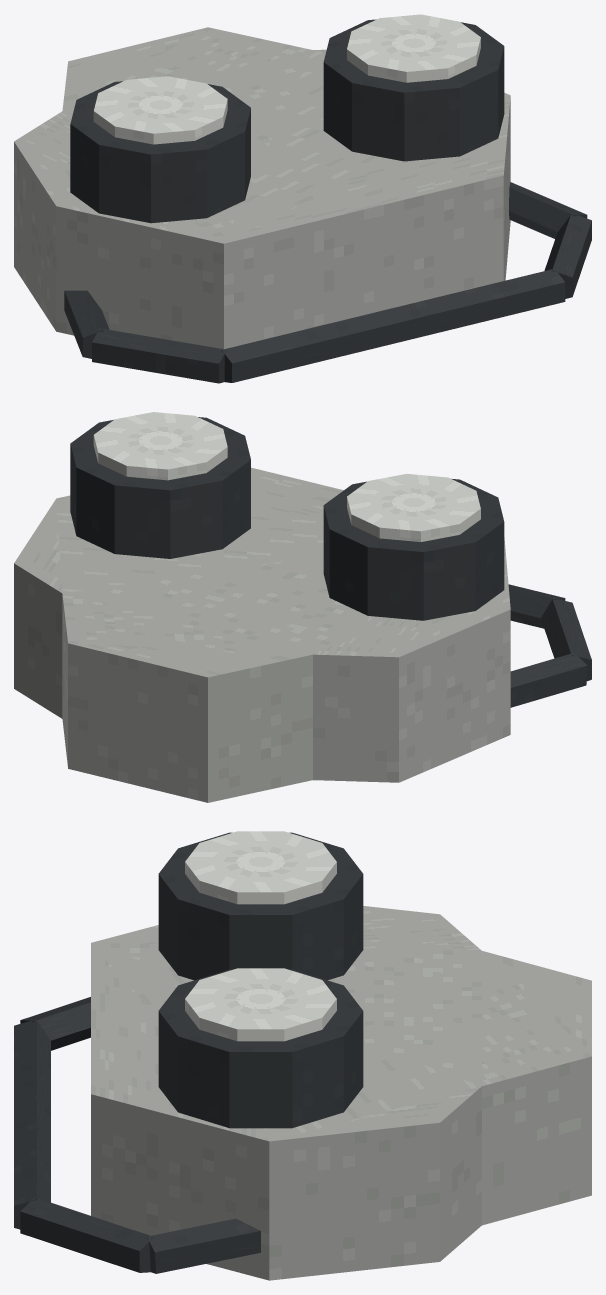
The model's file is mask_gas_half.glb.
The picture shows the model from 3 angles, top to bottom: view 1: azimuth 30°, elevation 25°; view 2: azimuth 150°, elevation 25°; view 3: azimuth 270°, elevation 25°; orthographic projection. The views are drawn at different scales.
Parts seen in each view (by area): view 1: block_contoured face shell, block_filter housing (×2), block_filter face (×2), block_strap 2, block_strap 1, block_strap 3, block_strap 4, block_strap 0; view 2: block_contoured face shell, block_filter housing (×2), block_filter face (×2), block_strap 0, block_strap 1, block_strap 2; view 3: block_contoured face shell, block_filter housing (×2), block_filter face (×2), block_strap 2, block_strap 3, block_strap 4, block_strap 1.
Part boxes in pixels (x1=…): block_contoured face shell: x1=14, y1=27, x2=510, y2=349; block_filter housing (×2): x1=70, y1=19, x2=504, y2=223; block_filter face (×2): x1=93, y1=14, x2=480, y2=144; block_strap 2: x1=221, y1=268, x2=565, y2=382; block_strap 1: x1=92, y1=328, x2=226, y2=383; block_strap 3: x1=544, y1=213, x2=591, y2=298; block_strap 4: x1=509, y1=182, x2=587, y2=238; block_strap 0: x1=64, y1=290, x2=109, y2=358; block_contoured face shell: x1=14, y1=467, x2=510, y2=802; block_filter housing (×2): x1=70, y1=417, x2=504, y2=620; block_filter face (×2): x1=93, y1=412, x2=480, y2=541; block_strap 0: x1=510, y1=653, x2=587, y2=707; block_strap 1: x1=541, y1=598, x2=591, y2=681; block_strap 2: x1=508, y1=584, x2=565, y2=628; block_contoured face shell: x1=91, y1=906, x2=591, y2=1280; block_filter housing (×2): x1=158, y1=832, x2=363, y2=1128; block_filter face (×2): x1=185, y1=831, x2=336, y2=1041; block_strap 2: x1=14, y1=1019, x2=50, y2=1229; block_strap 3: x1=20, y1=1197, x2=153, y2=1272; block_strap 4: x1=147, y1=1218, x2=260, y2=1273; block_strap 1: x1=20, y1=997, x2=90, y2=1050.
Size of the model in its own units: 0.1905 by 0.074 by 0.1704.
1 material, 1 textured.
